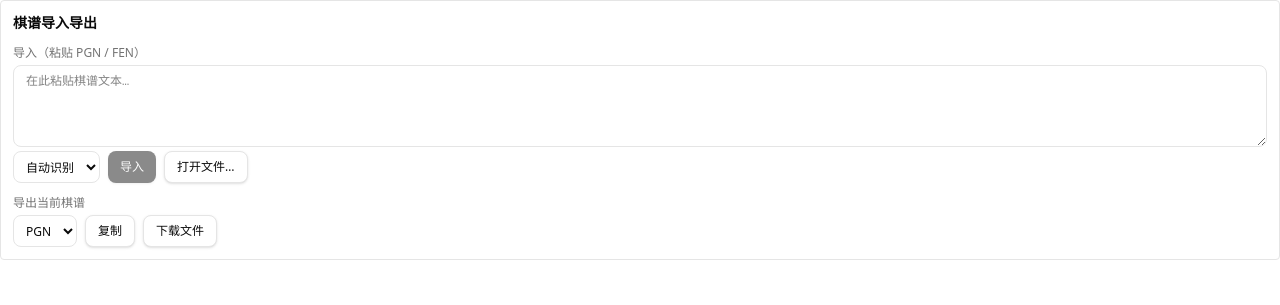
Test: GameCodec › imports pasted text with auto format and adopts the snapshot
In the text box with test id "codec-import": (640, 106) [13,65,1267,147], type "1. h2e2 h7e7"
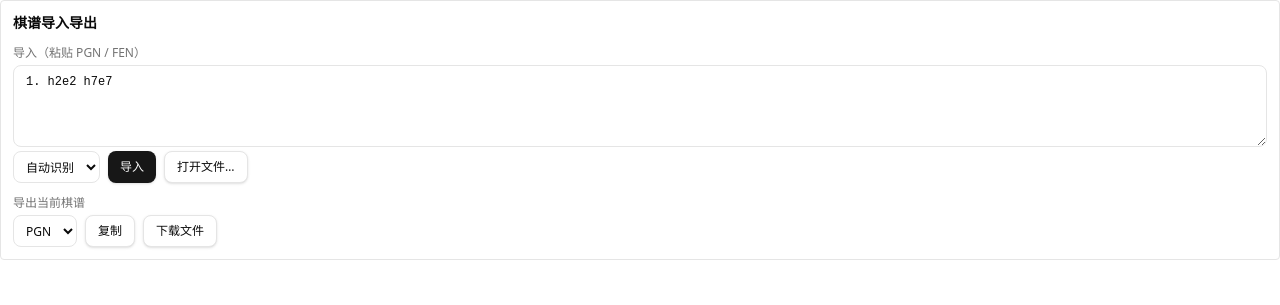
Click the button with test id "codec-import-button": (132, 167) [108,151,156,183]
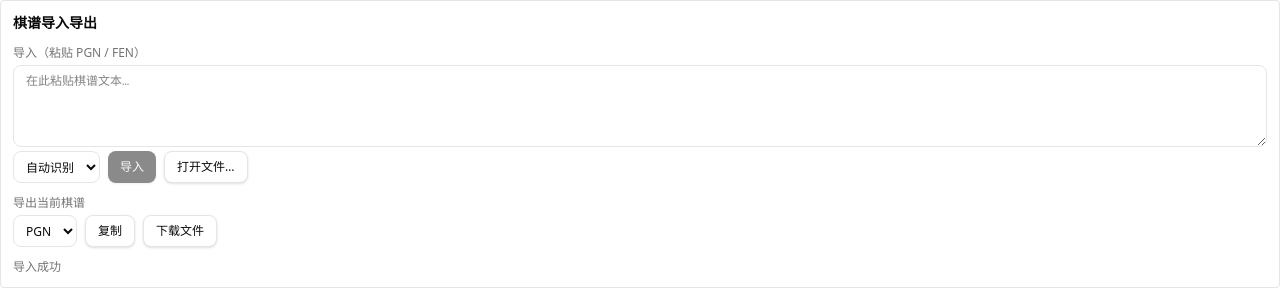
Check: the text with test id "codec-message" reads "导入成功", box [13,258,61,275]
